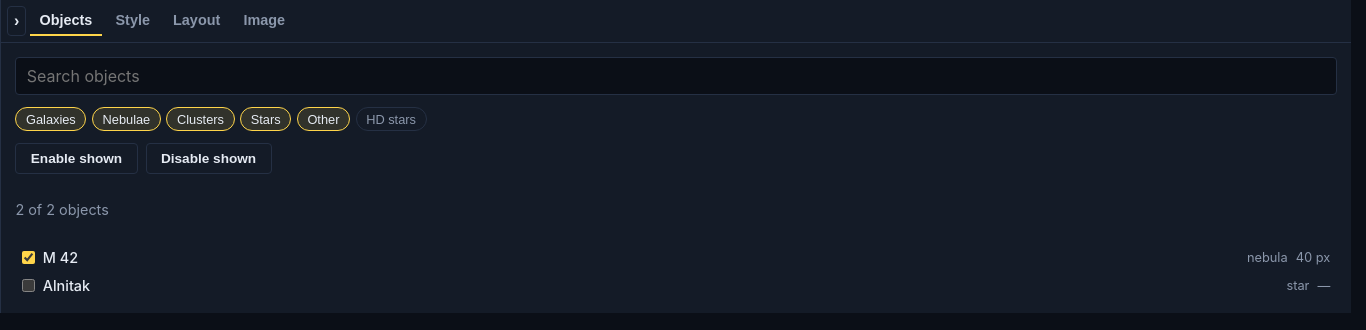
SidePanel › does not mount a tab body before its first visit
Expected: the button "Auto-arrange" is not shown
Click the tab "Layout".
click(197, 21)  # box [164, 6, 230, 36]
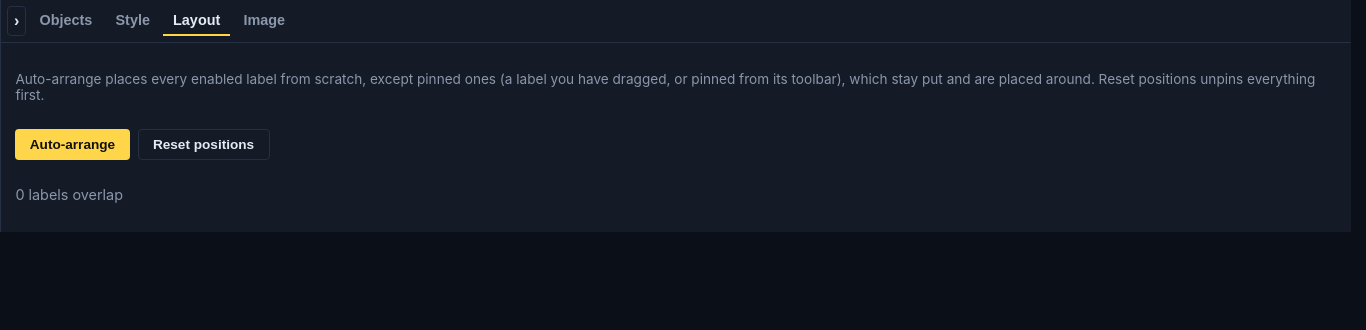
Expected: the button "Auto-arrange" is shown, [15, 128, 130, 160]
